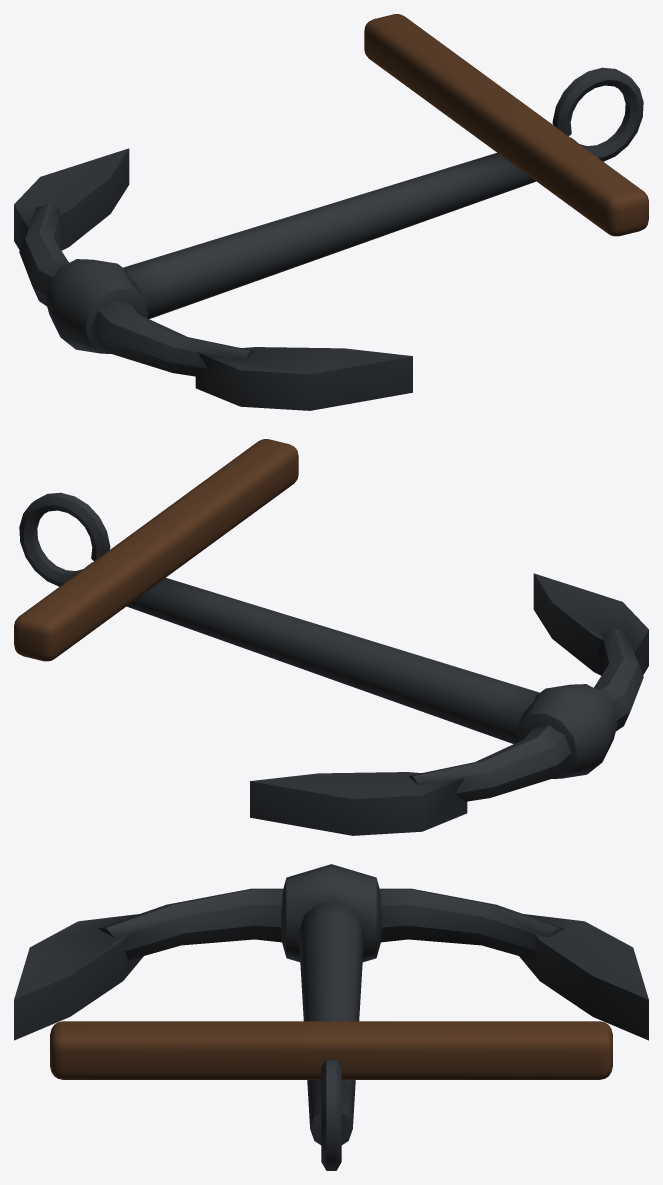
Rendered from ship-anchor.glb.
3 views of the same model, one above another, from view 1: azimuth 30°, elevation 25°; view 2: azimuth 150°, elevation 25°; view 3: azimuth 270°, elevation 25° (orthographic). The views are drawn at different scales.
Parts seen in each view (by area): view 1: iron, stock; view 2: iron, stock; view 3: iron, stock.
Boxes of the visible parts, x1,y1,x2,y2 form: iron: (14,67,643,410); stock: (364,14,648,236); iron: (19,492,648,835); stock: (14,439,298,661); iron: (14,864,648,1170); stock: (50,1021,612,1079).
Bounding box in the file's own units: 0.6725 × 0.1723 × 0.564.
